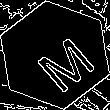M_NW: (19, 21, 91, 89)
